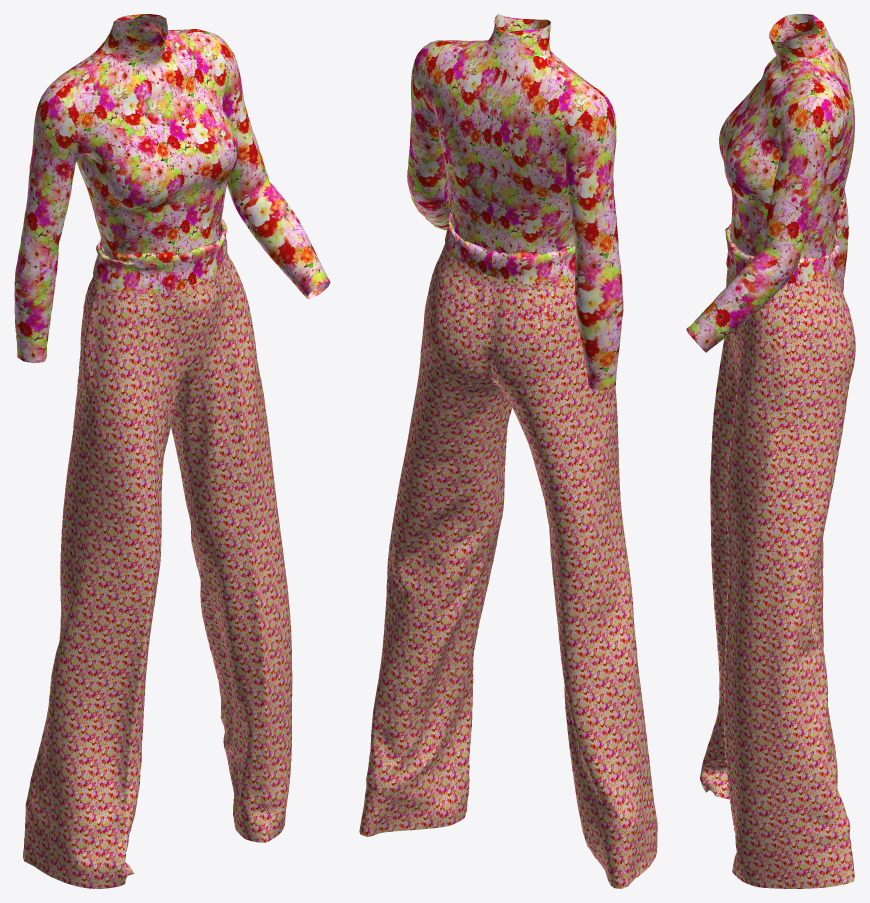
File: DA_HighNeck+WidePants_0000109.obj
The picture shows the model from 3 angles, left to right: view 1: azimuth 30°, elevation 25°; view 2: azimuth 150°, elevation 25°; view 3: azimuth 270°, elevation 25°; orthographic projection. The views are drawn at different scales.
Bounding box in the file's own units: 0.5243 × 1.64 × 0.3129.
